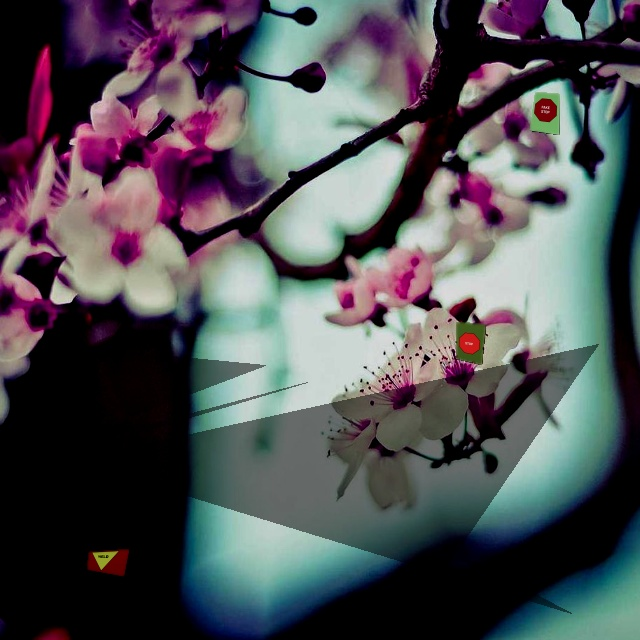FAKE_STOP: (533, 98, 557, 123)
STOP: (458, 332, 480, 356)
YIELD: (90, 548, 119, 573)
